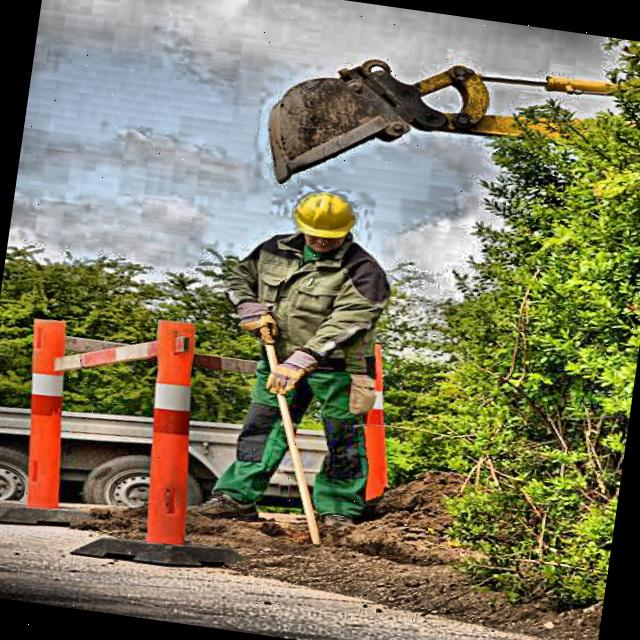helmet: (279, 179, 366, 268)
